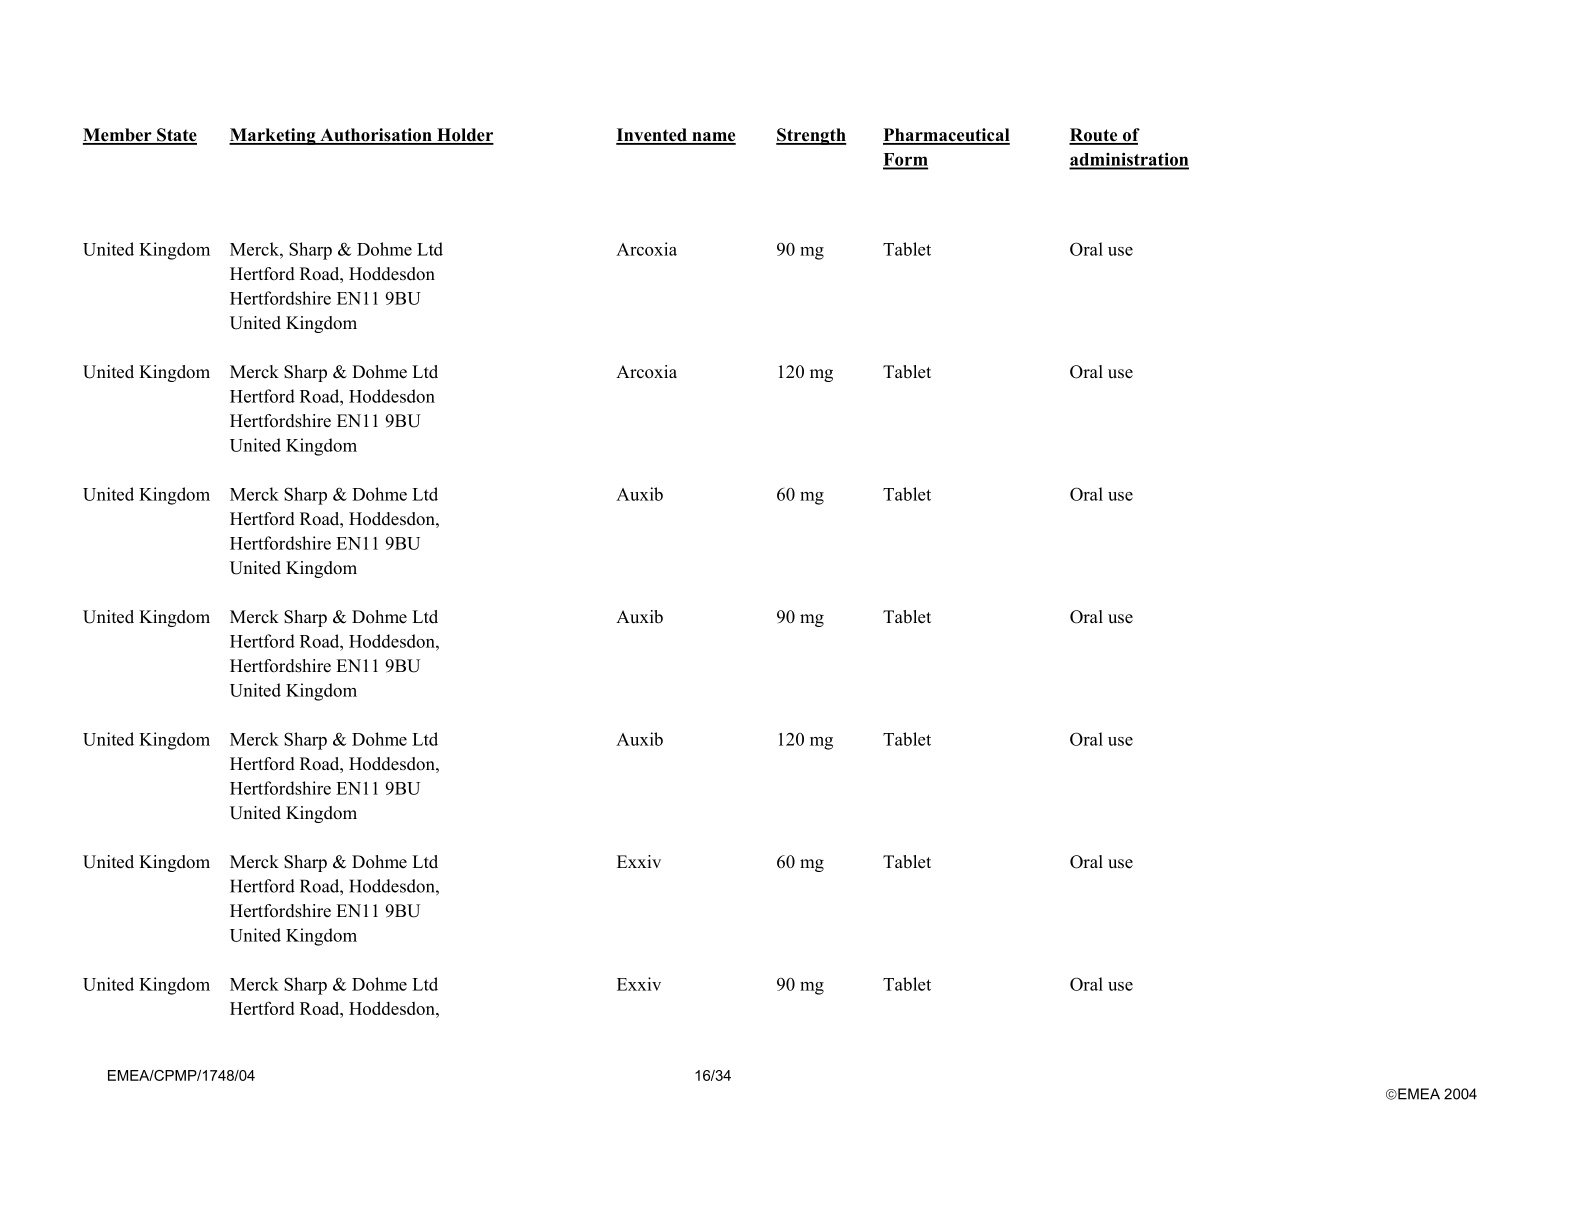nolines: (81, 122, 1192, 1020)
